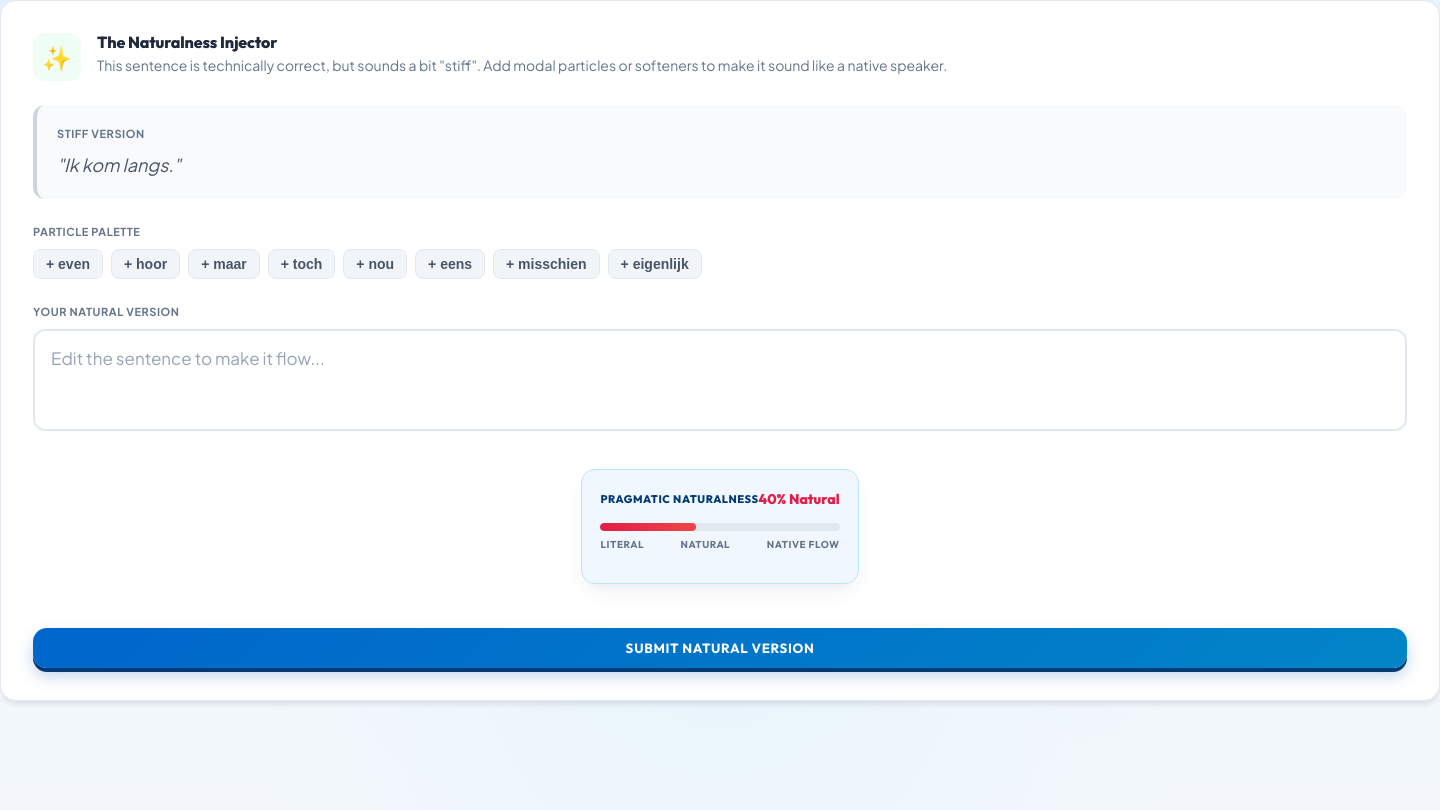
NuanceDrill › disables submit until text is present and updates the naturalness preview
Expected: the button "Submit Natural Version" is disabled, x1=33 y1=628 x2=1407 y2=668
Expected: the element that starts with "Pragmatic Naturalness" shows "40% Natural", x1=759 y1=490 x2=840 y2=508
Type "Ik kom even langs." into the text box with placeholder "Edit the sentence to make it flow..." at (720, 380), box x1=33 y1=329 x2=1407 y2=431
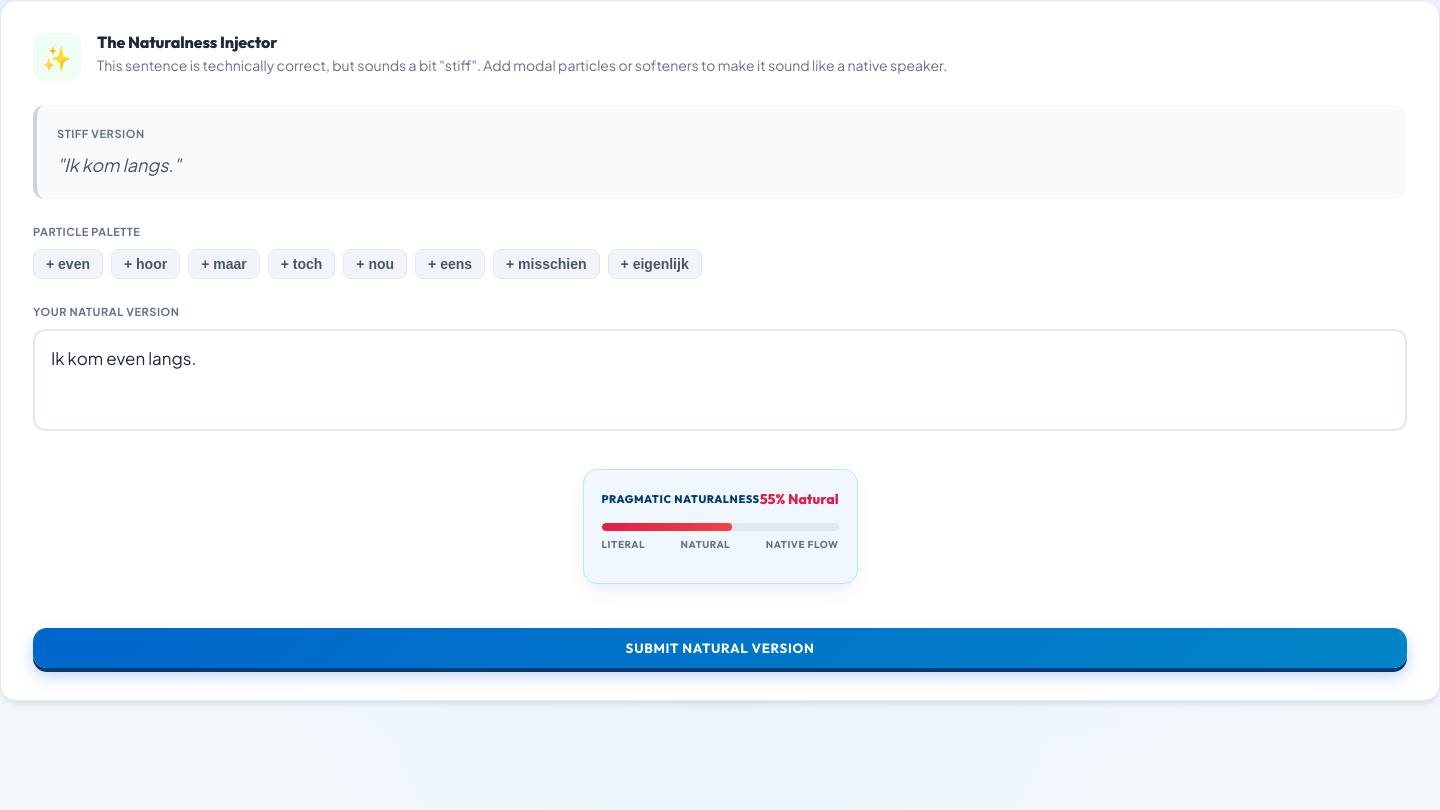
Expected: the button "Submit Natural Version" is enabled, x1=33 y1=628 x2=1407 y2=668
Now the element that starts with "Pragmatic Naturalness" shows "55% Natural", box x1=760 y1=490 x2=838 y2=508
